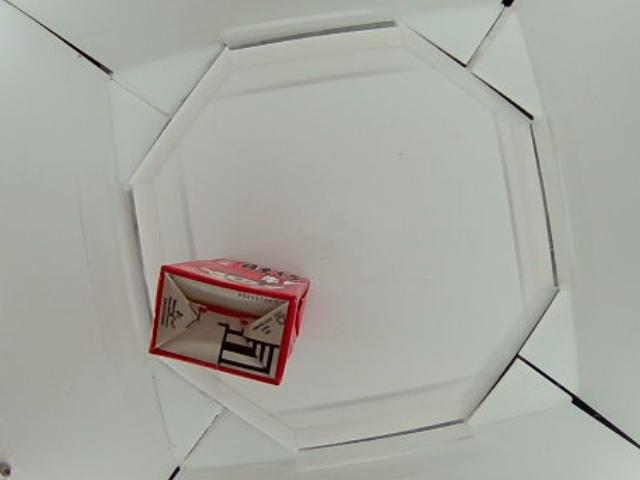Bottle: (147, 257, 309, 384)
